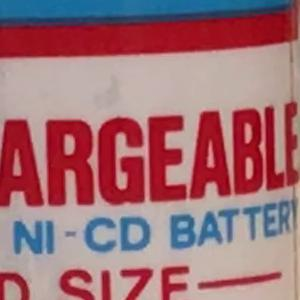keyword: (3, 207, 155, 264)
